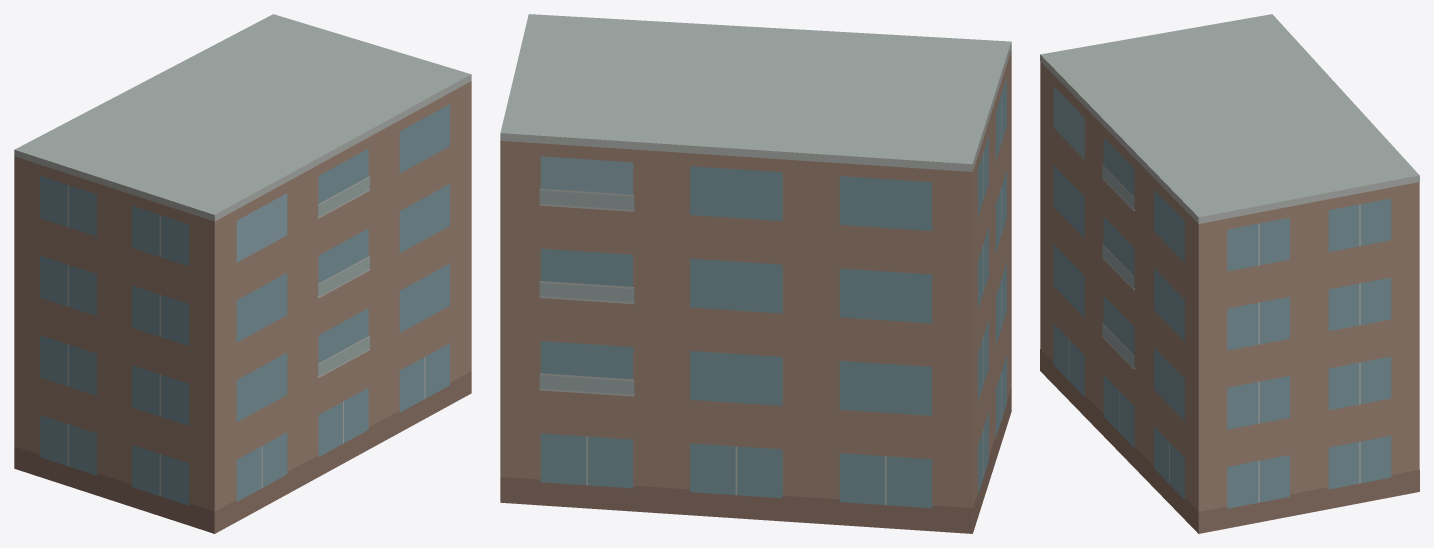
Rendered from survey-upis-32946356.glb.
3 views of the same model, side by side, from view 1: azimuth 30°, elevation 25°; view 2: azimuth 150°, elevation 25°; view 3: azimuth 270°, elevation 25° (orthographic). The views are drawn at different scales.
Parts seen in each view (by area): view 1: survey-upis-32946356.tmp; view 2: survey-upis-32946356.tmp; view 3: survey-upis-32946356.tmp.
Boxes of the visible parts, <box> form: survey-upis-32946356.tmp: <box>14,14,471,533</box>; survey-upis-32946356.tmp: <box>500,14,1011,533</box>; survey-upis-32946356.tmp: <box>1040,14,1419,533</box>.
Bounding box in the file's own units: 16.28 × 11.8 × 12.84.
